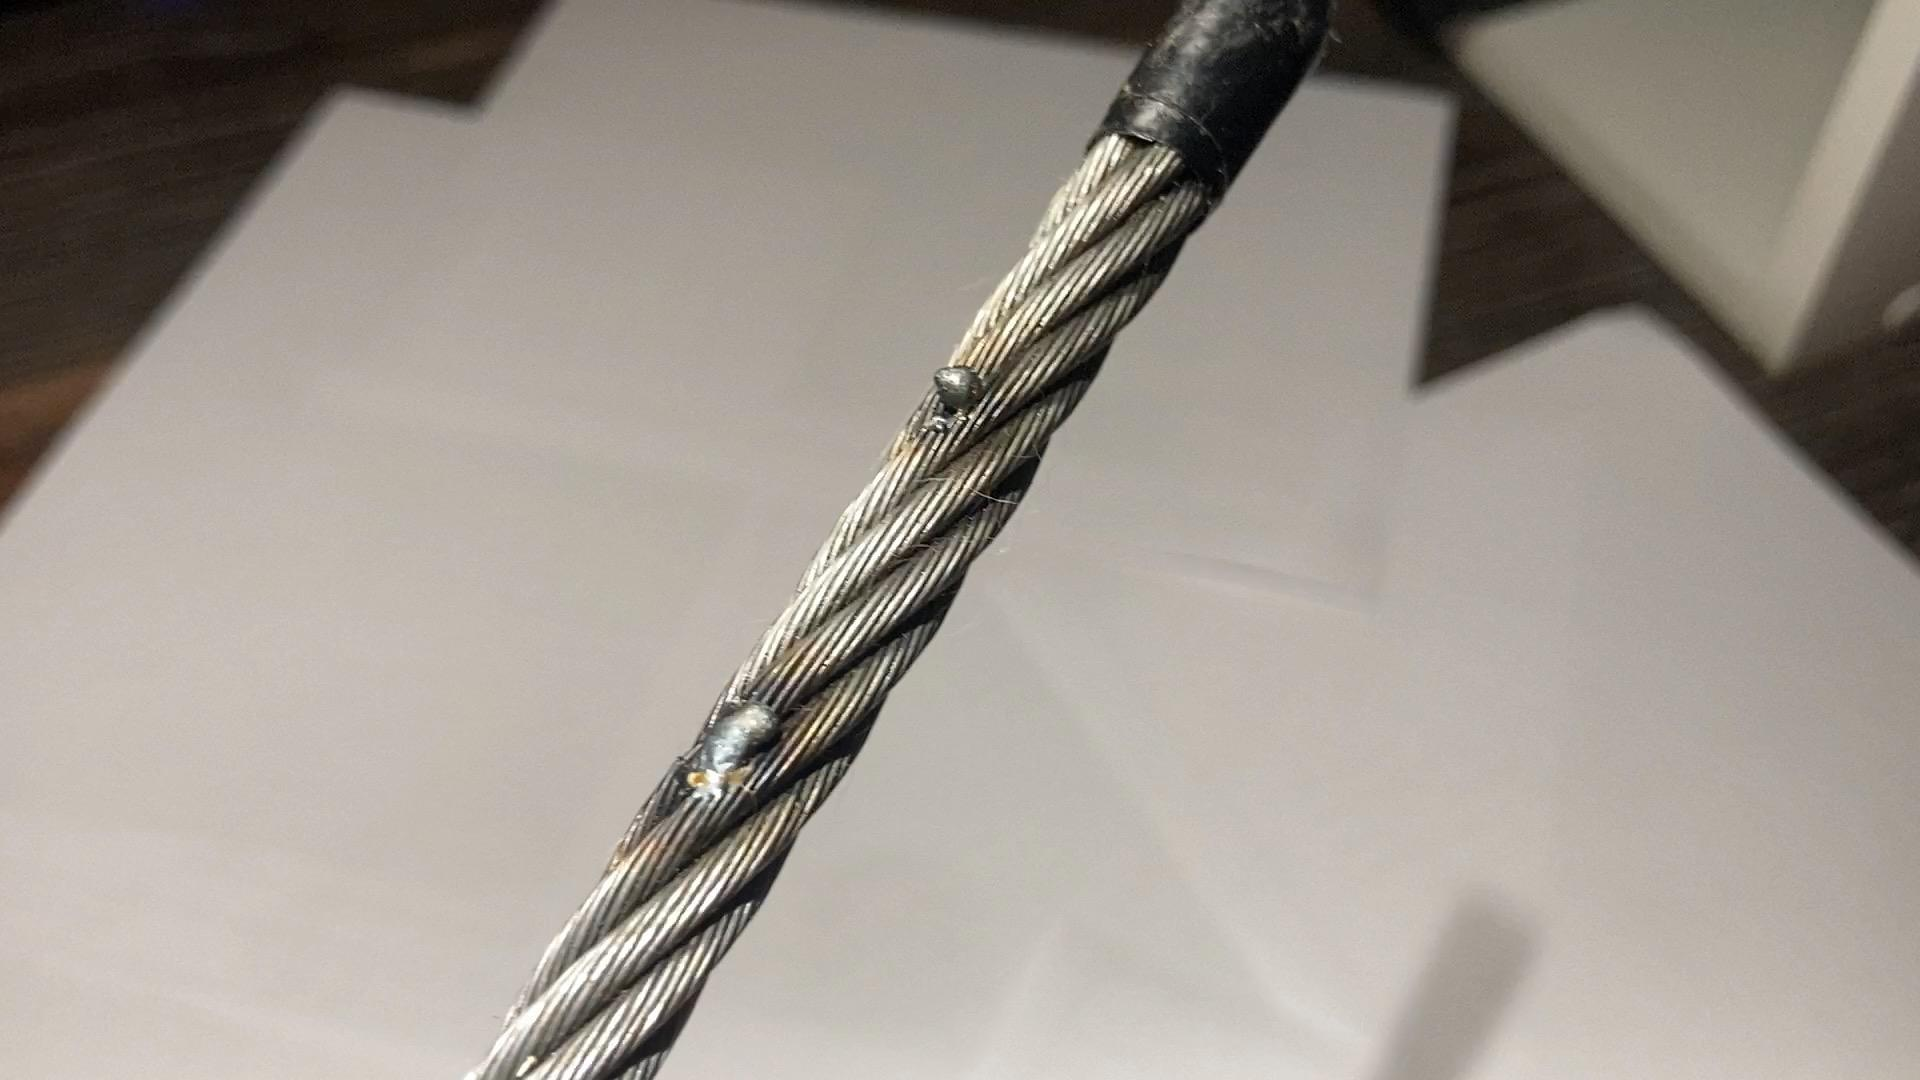thunderbolt: (665, 694, 787, 779), (915, 357, 1011, 440)
